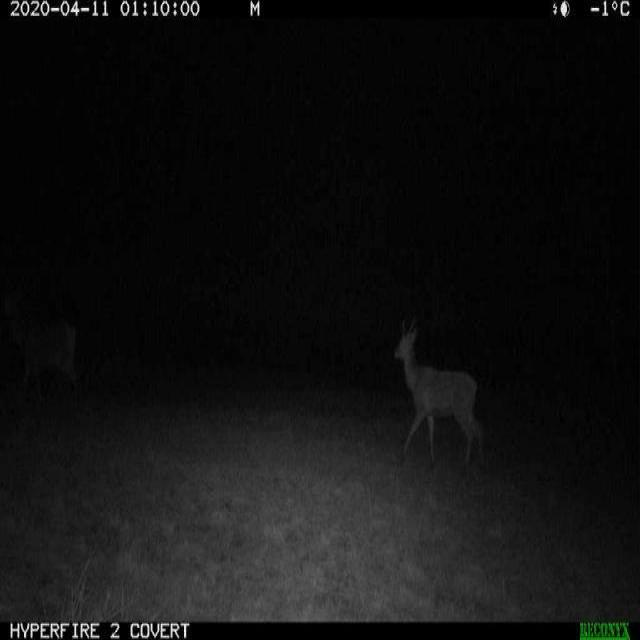deer: (384, 306, 494, 490), (17, 277, 108, 432)
